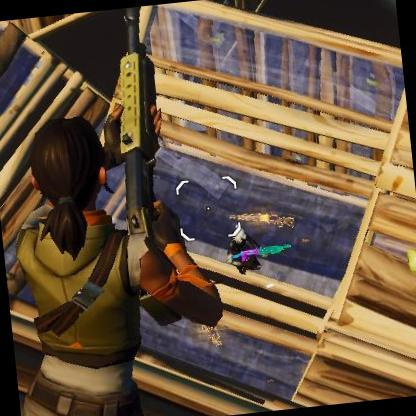person: (228, 228, 261, 278)
